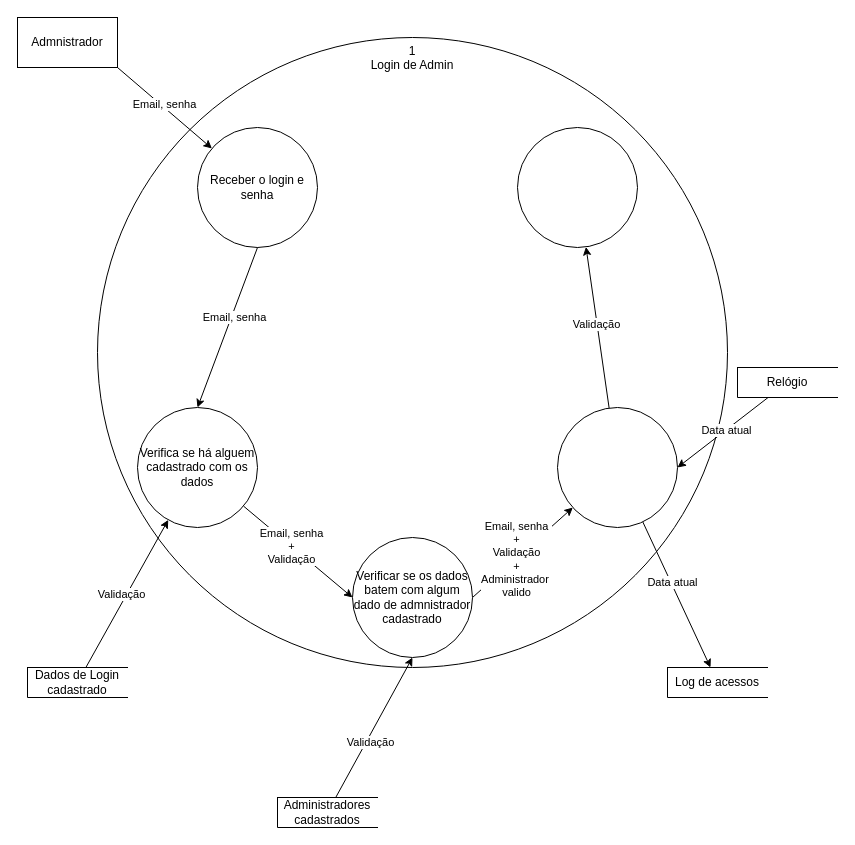
Image size: 855x845. Some labels were removed from this diagram. Here are the shapes that lost their labels. From the top down, the centre of each, then its label:
the point at 577,187: Concede acesso ao sistema
the point at 617,467: Concede acesso ao sistema como administrador
